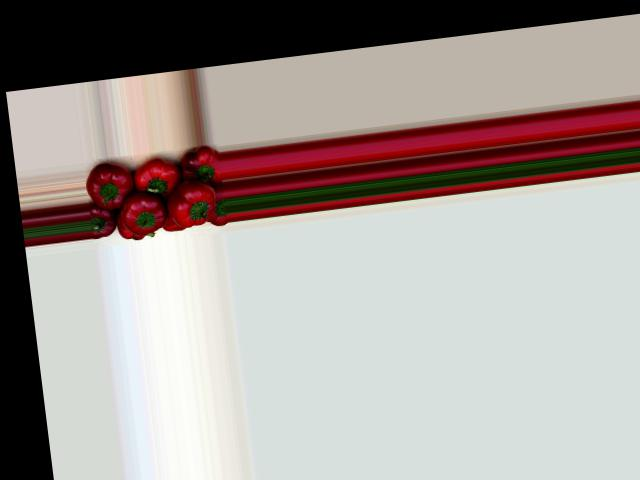bell_pepper: (161, 213, 182, 235)
